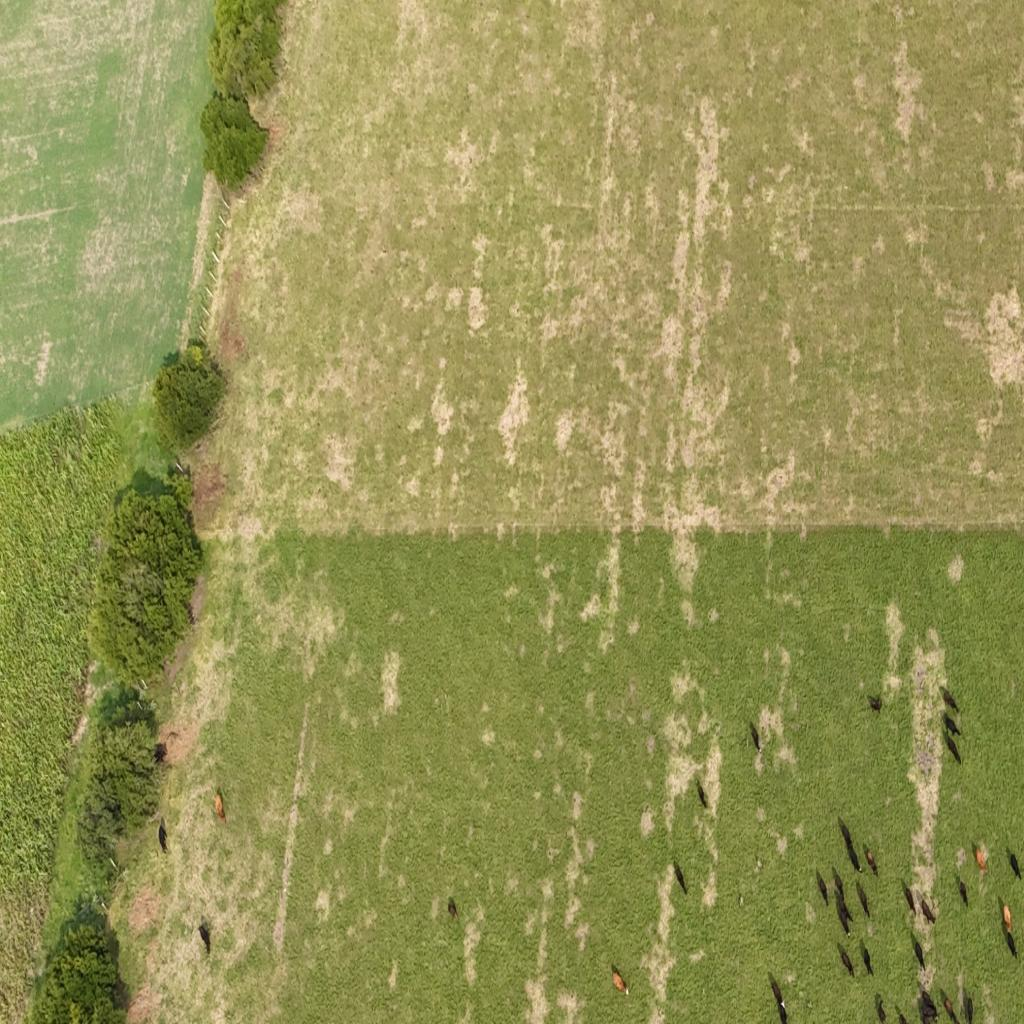cow: (770, 980, 789, 1024), (835, 890, 853, 936), (918, 986, 939, 1024), (944, 726, 963, 764), (745, 726, 762, 762), (855, 879, 870, 919), (910, 932, 925, 972), (972, 843, 989, 878), (1005, 848, 1022, 882), (612, 968, 631, 998), (815, 867, 829, 907), (838, 944, 854, 978), (901, 878, 916, 914), (832, 867, 847, 903), (943, 713, 962, 739), (214, 789, 228, 824), (956, 866, 968, 906), (920, 895, 936, 925), (942, 992, 958, 1022), (674, 861, 688, 895), (1003, 925, 1017, 959), (942, 688, 960, 714), (198, 919, 211, 955), (860, 940, 873, 976), (696, 778, 709, 810), (865, 846, 878, 878), (158, 818, 168, 854), (875, 993, 887, 1023), (867, 693, 883, 715), (840, 824, 854, 849), (1015, 849, 1024, 882), (966, 992, 975, 1024), (1003, 902, 1012, 932), (446, 902, 458, 920), (897, 1008, 907, 1024)
